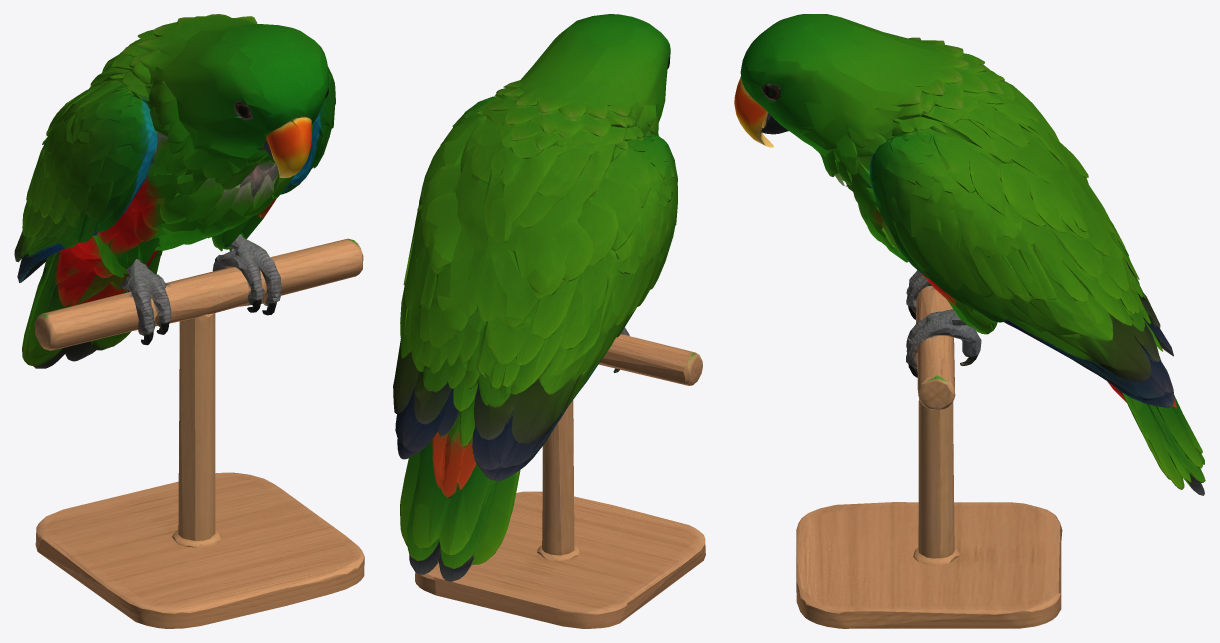
Rendered from jigu-sick.glb.
3 views of the same model, side by side, from view 1: azimuth 30°, elevation 25°; view 2: azimuth 150°, elevation 25°; view 3: azimuth 270°, elevation 25° (orthographic). The views are drawn at different scales.
Size of the model in its own units: 1.1 by 1.9 by 1.47.
Materials: 1 (1 with a texture image).
